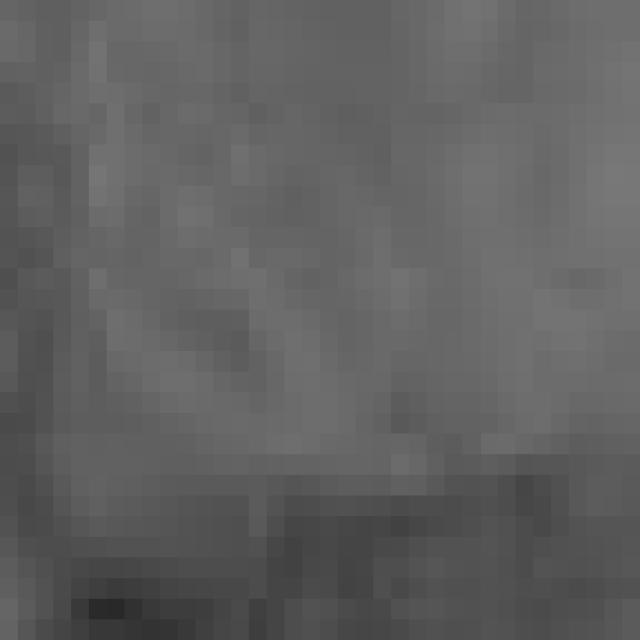fracture: (15, 8, 640, 640)
